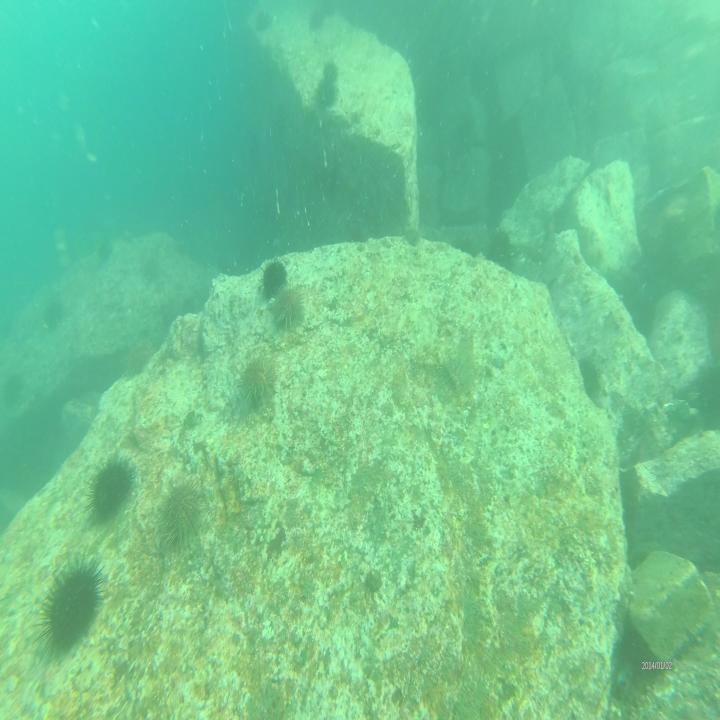echinus: (36, 550, 104, 656), (84, 451, 137, 518), (164, 478, 206, 548), (238, 351, 274, 408), (271, 280, 306, 337), (576, 348, 607, 409), (258, 254, 289, 302), (487, 224, 512, 275), (312, 76, 341, 115), (0, 367, 25, 412), (40, 298, 64, 333), (320, 52, 341, 88), (96, 232, 115, 266), (254, 6, 275, 34), (309, 1, 323, 34), (320, 0, 339, 21)
